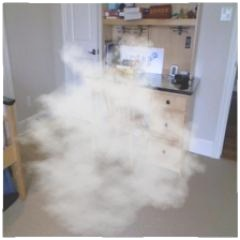smoke: (43, 75, 159, 194)
